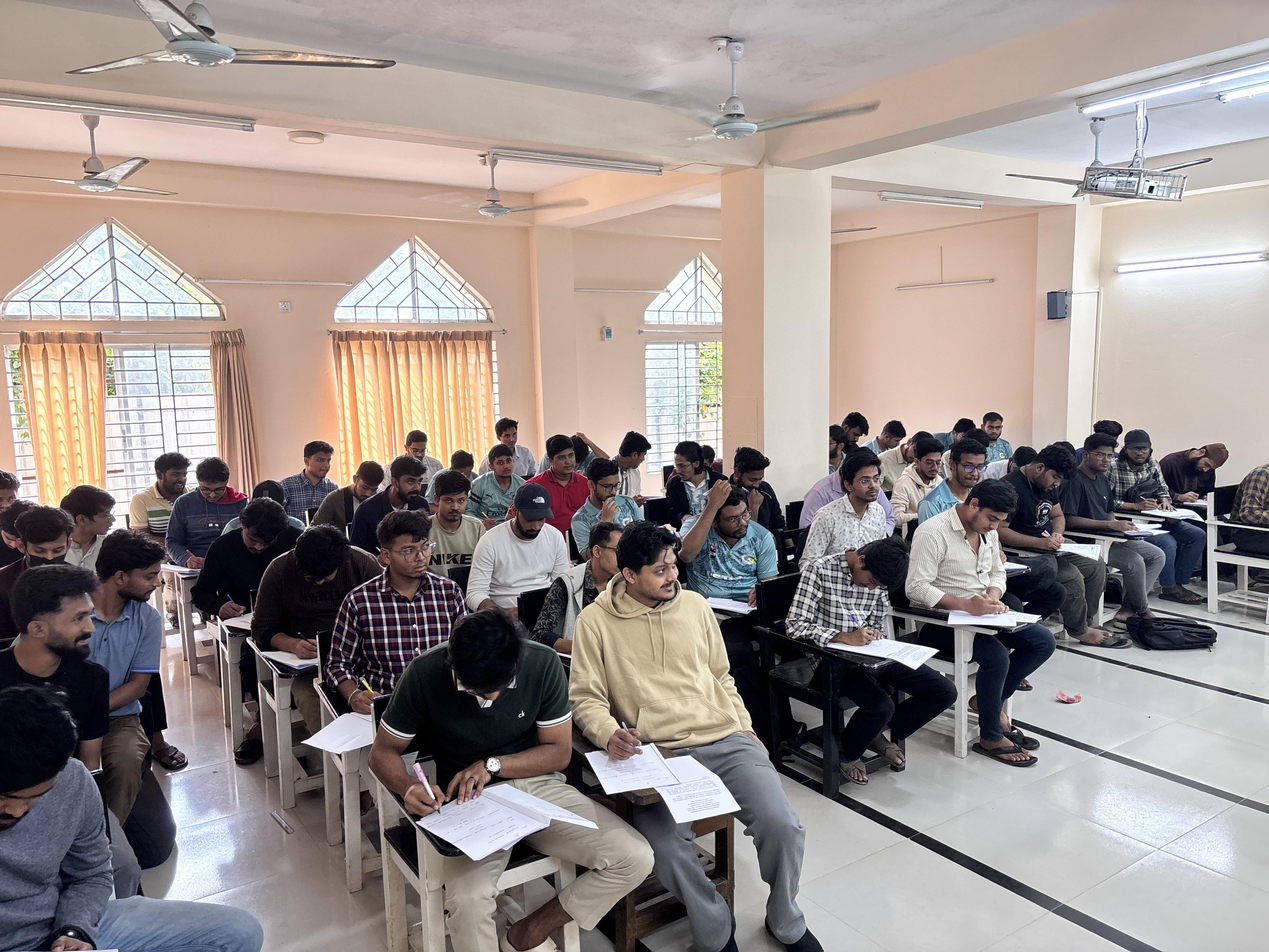copying: (94, 525, 175, 668), (63, 482, 132, 538), (665, 439, 714, 504)
no_cheating: (578, 515, 754, 837), (365, 608, 570, 874), (786, 536, 926, 718), (909, 480, 1032, 682), (340, 510, 452, 721), (255, 520, 367, 658), (465, 480, 572, 603), (206, 498, 306, 619), (679, 480, 769, 591), (808, 454, 895, 562), (1007, 441, 1080, 553), (173, 459, 237, 563), (576, 458, 642, 553), (420, 466, 482, 551), (1163, 435, 1232, 504), (531, 431, 586, 507), (938, 432, 993, 507), (289, 435, 343, 508), (1117, 426, 1168, 501), (375, 451, 429, 521), (17, 506, 74, 572), (1076, 433, 1135, 495), (729, 443, 785, 508), (138, 449, 199, 508), (899, 436, 946, 498), (479, 443, 526, 496), (341, 457, 385, 510), (978, 406, 1022, 457), (879, 413, 917, 472), (842, 409, 870, 460), (491, 414, 525, 450), (405, 427, 434, 465)
side_talking: (608, 425, 657, 488)
